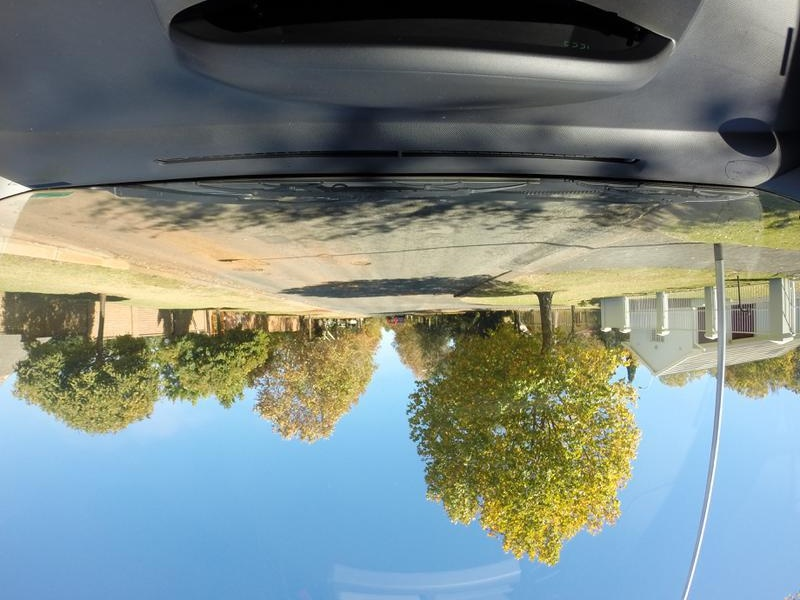pothole: (202, 244, 259, 279), (337, 252, 376, 269)
